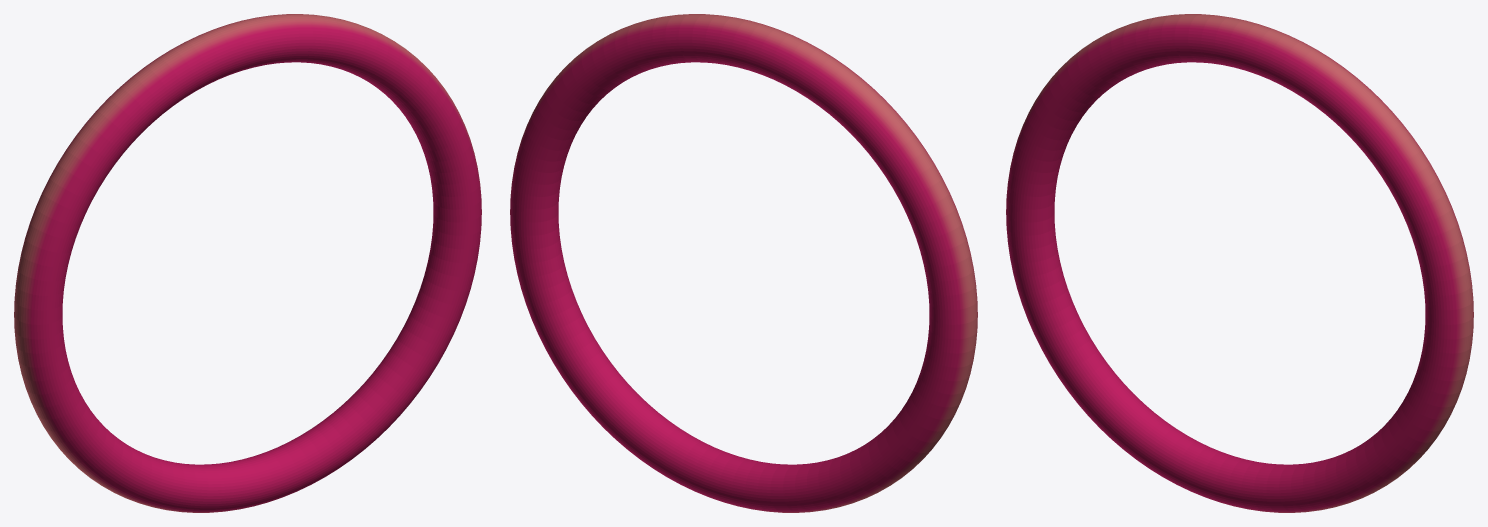
3 views of the same model, side by side, from view 1: azimuth 30°, elevation 25°; view 2: azimuth 150°, elevation 25°; view 3: azimuth 330°, elevation 25° (orthographic).
Visible parts, largest first — view 1: world; view 2: world; view 3: world.
Boxes of the visible parts, <box> form: world: <box>14,14,481,512</box>; world: <box>510,14,977,512</box>; world: <box>1006,14,1473,512</box>.
Bounding box in the file's own units: 27.87 × 27.87 × 2.53.
